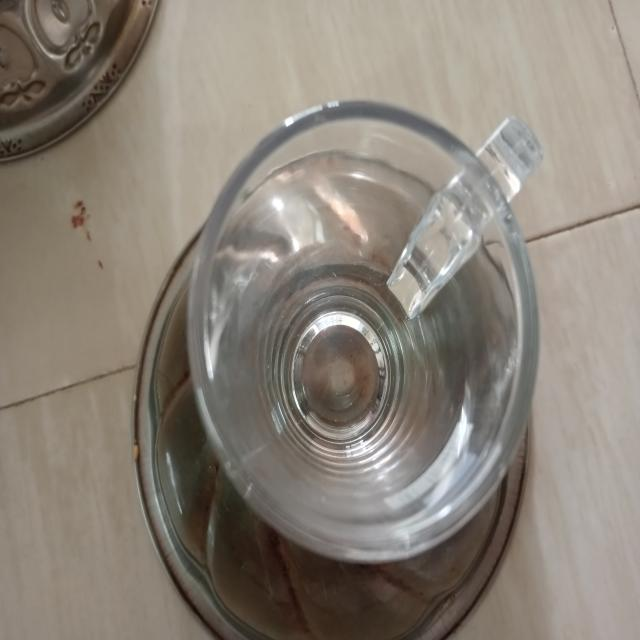glass-VX4N: (190, 91, 546, 571)
